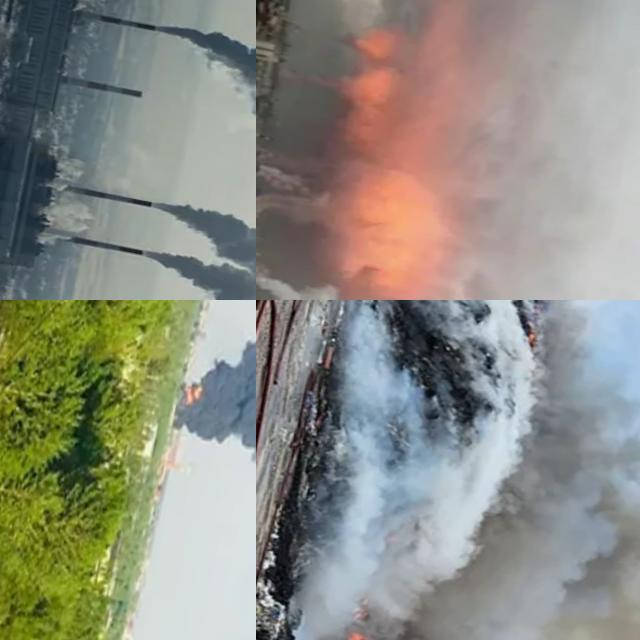smoke: (256, 300, 640, 640), (265, 0, 640, 300), (133, 0, 256, 240), (163, 300, 256, 549)
